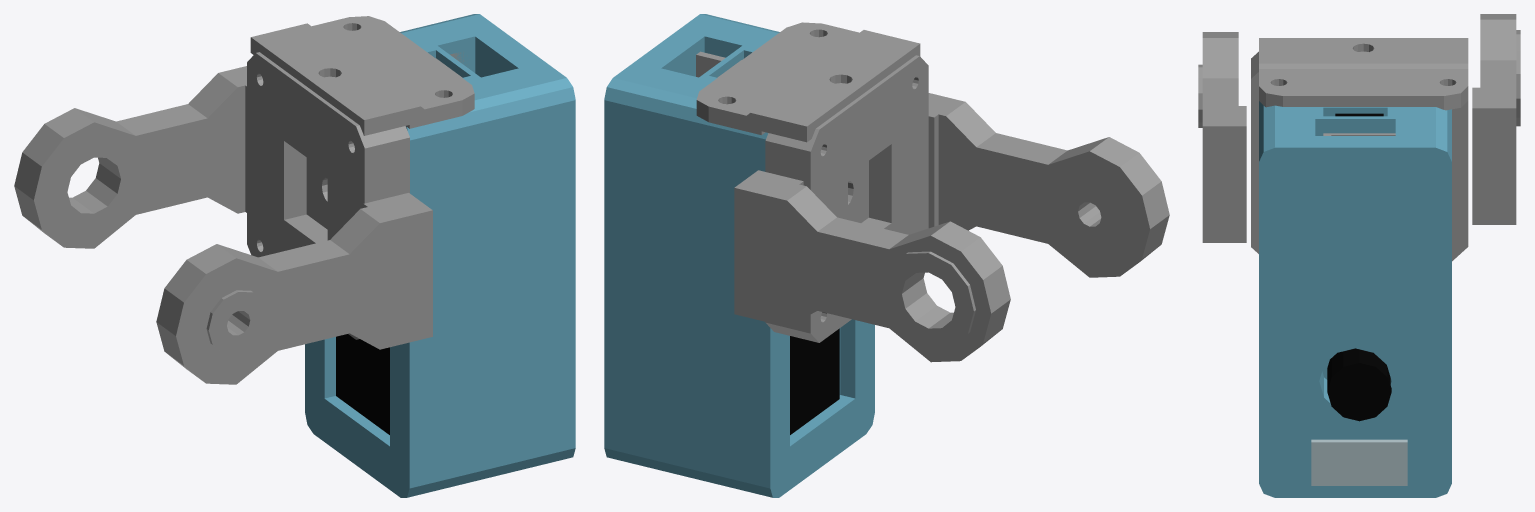
Rendered from head-reye-y.glb.
3 views of the same model, side by side, from view 1: azimuth 30°, elevation 25°; view 2: azimuth 150°, elevation 25°; view 3: azimuth 270°, elevation 25° (orthographic). The views are drawn at different scales.
Bounding box in the file's own units: 0.058 × 0.05 × 0.04.
